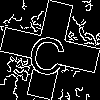C: (25, 25, 71, 78)
